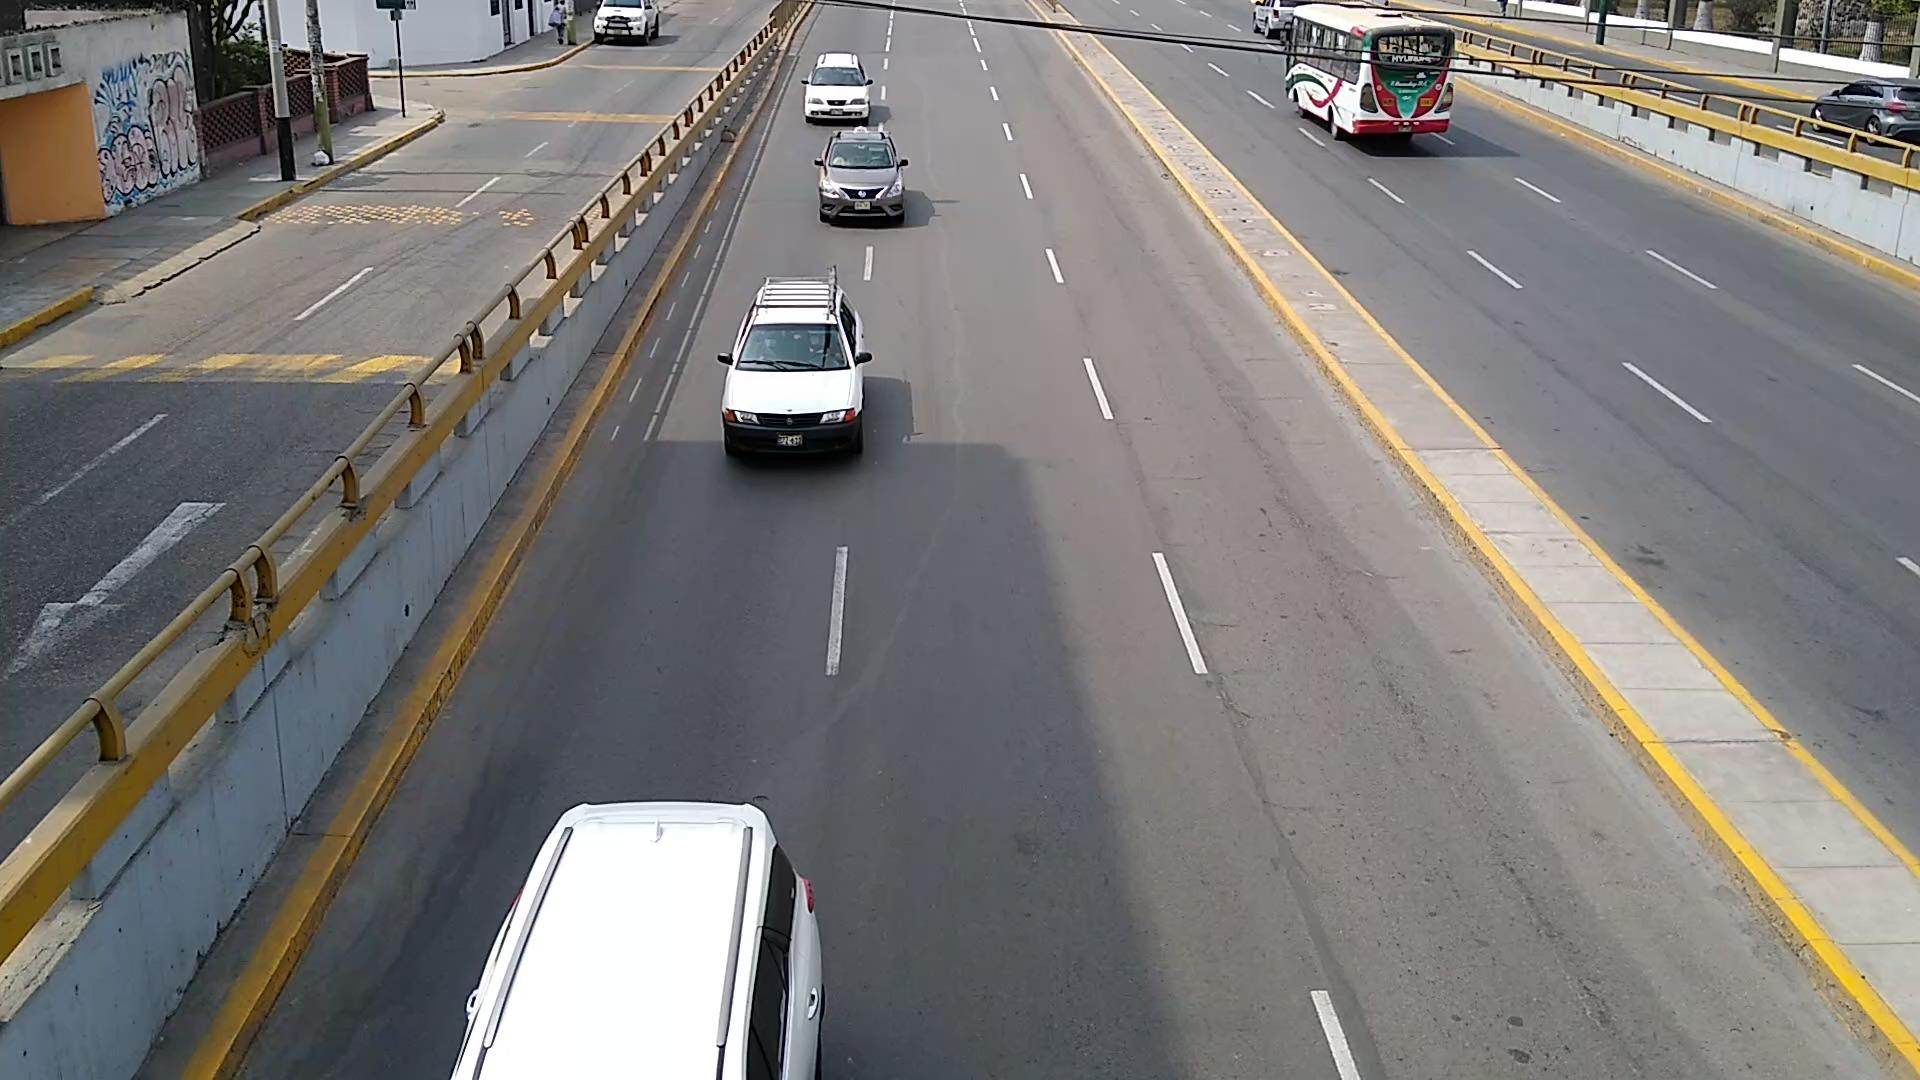bus: (1286, 4, 1455, 138)
car: (454, 803, 825, 1079), (720, 274, 870, 458), (814, 124, 907, 225), (803, 53, 870, 124)
